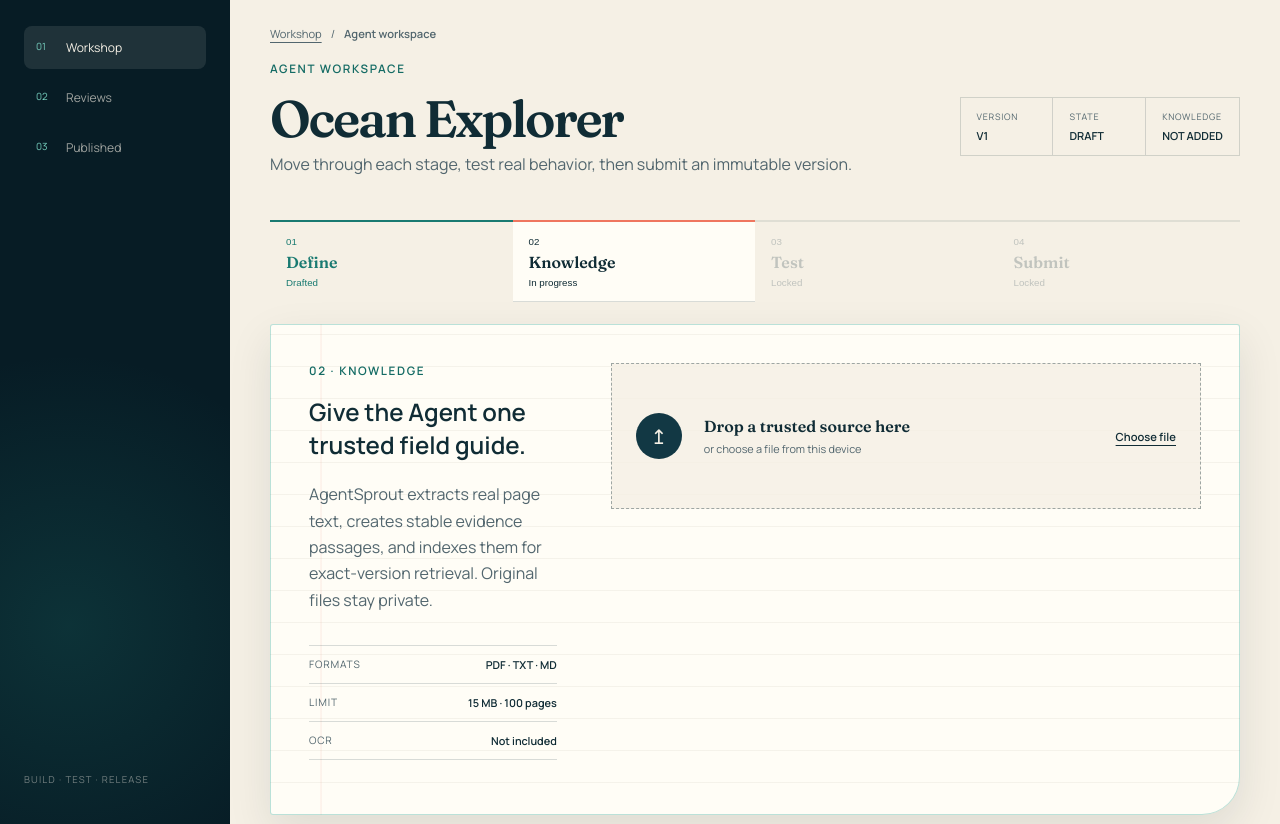
Scenario: AgentWorkspace › shows one URL-backed stage and redirects a locked stage to Knowledge
Expected: the button "03 Test Locked" is disabled, [755,222,998,302]
Expected: the element with id "workspace-panel-knowledge" is shown, [270,324,1240,815]
Click the button "01 Define Drafted". click: (391, 262)
box: [270,222,512,302]
(page scrolled)
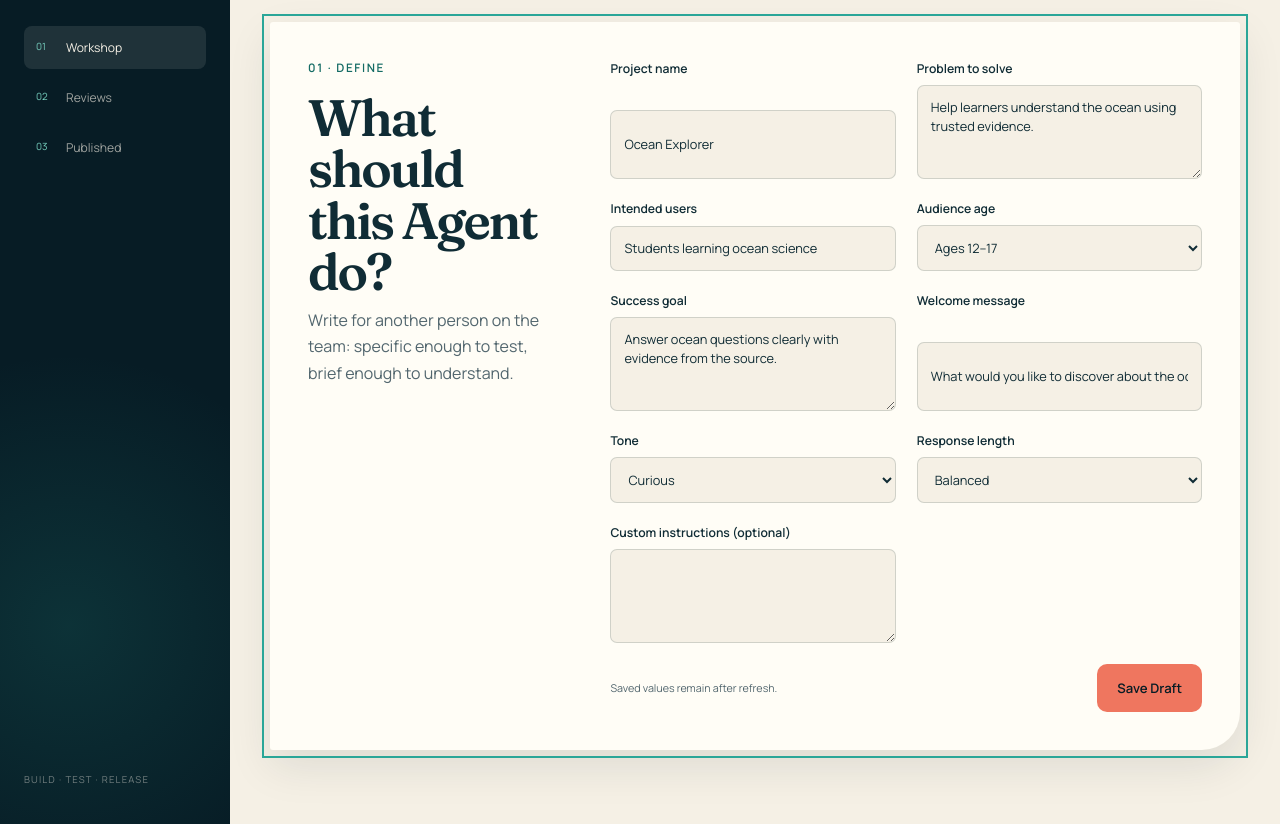
Now the element with id "workspace-panel-define" is shown
Now the element with id "workspace-panel-knowledge" is gone
